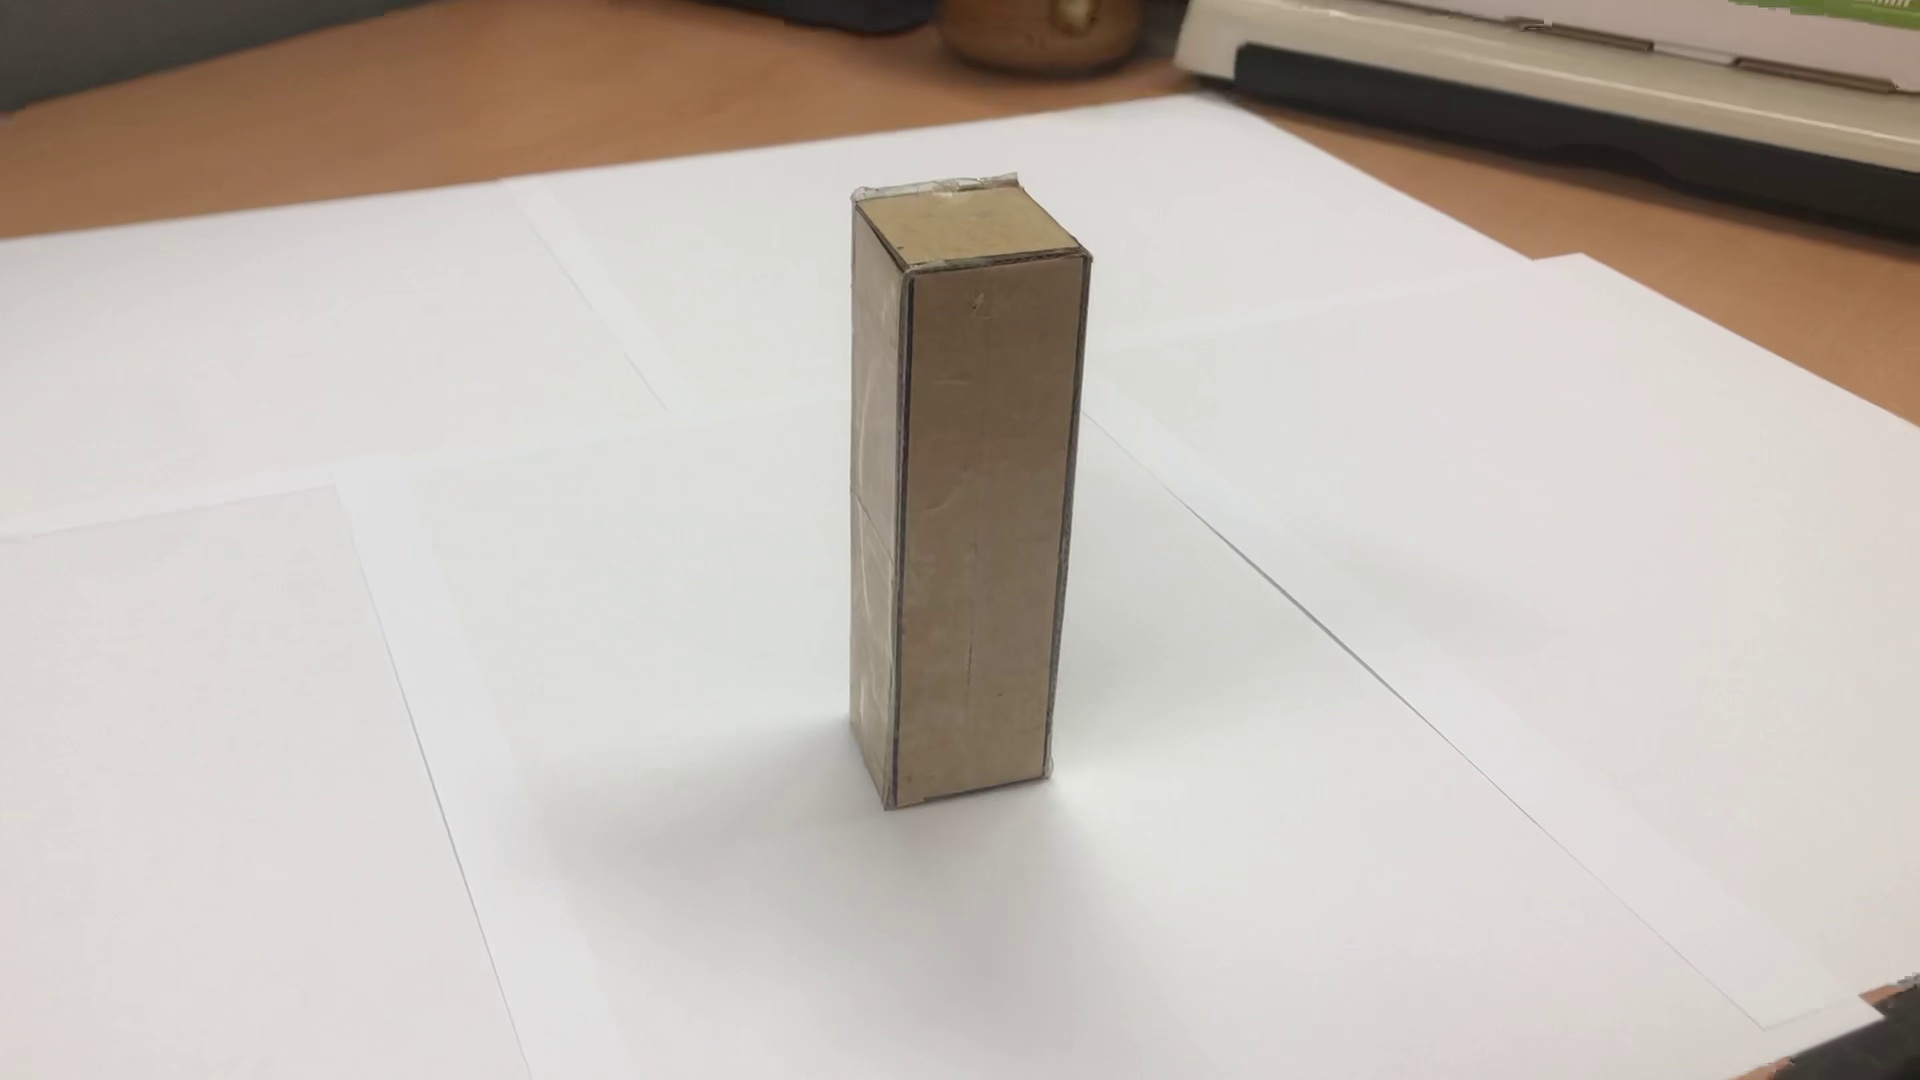box: (818, 148, 1109, 835)
